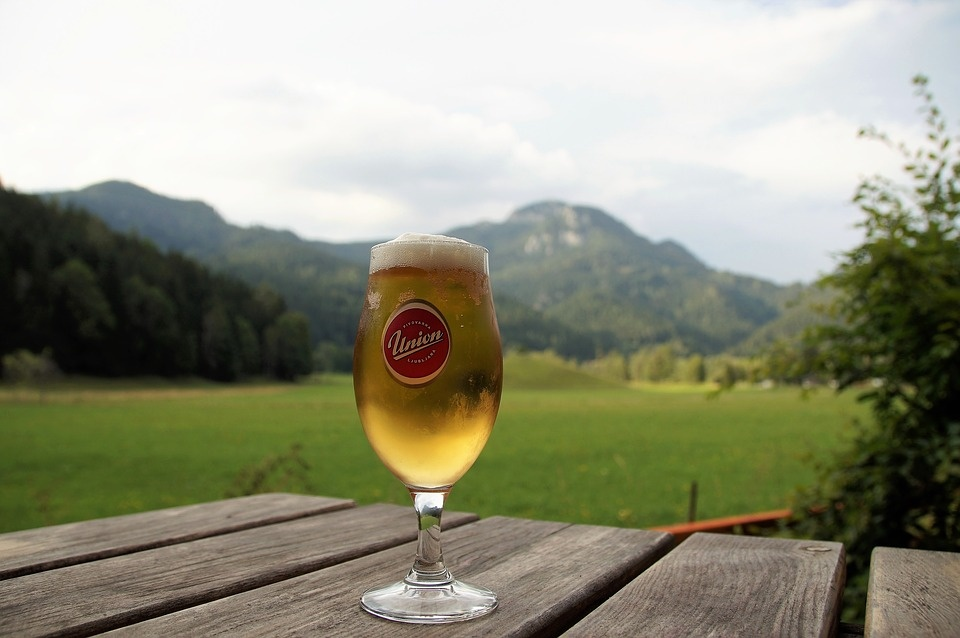glassBeer: (356, 236, 498, 624)
